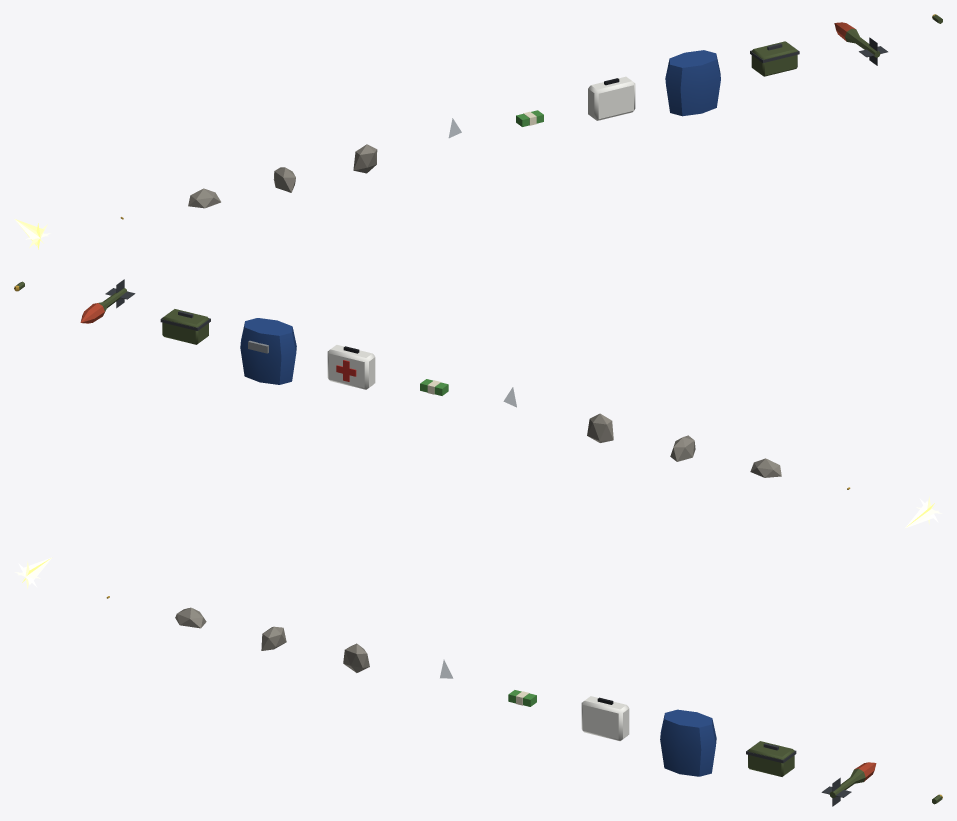
File: vfx_kit.glb
3 views of the same model, one above another, from view 1: azimuth 30°, elevation 25°; view 2: azimuth 150°, elevation 25°; view 3: azimuth 330°, elevation 25° (orthographic).
Visible parts, largest first — view 1: pickup_armor, pickup_health, pickup_ammo, proj_rocket, vfx_debris_2; view 2: pickup_armor, pickup_health, pickup_ammo, proj_rocket, vfx_debris_2; view 3: pickup_armor, pickup_health, pickup_ammo, proj_rocket, vfx_debris_2.
Boxes of the visible parts, box(x1,y1,x2,y2) form: pickup_armor: box(665, 50, 720, 116); pickup_health: box(588, 76, 635, 120); pickup_ammo: box(750, 41, 799, 76); proj_rocket: box(834, 22, 887, 65); vfx_debris_2: box(353, 144, 377, 173); pickup_armor: box(240, 318, 296, 384); pickup_health: box(327, 345, 375, 389); pickup_ammo: box(160, 309, 210, 344); proj_rocket: box(80, 279, 135, 323); vfx_debris_2: box(587, 413, 613, 442); pickup_armor: box(660, 709, 716, 776); pickup_health: box(581, 696, 629, 740); pickup_ammo: box(746, 741, 796, 776); proj_rocket: box(821, 762, 876, 806); vfx_debris_2: box(343, 643, 369, 672).
Bounding box in the file's own units: 6.72 × 0.34 × 0.61.
